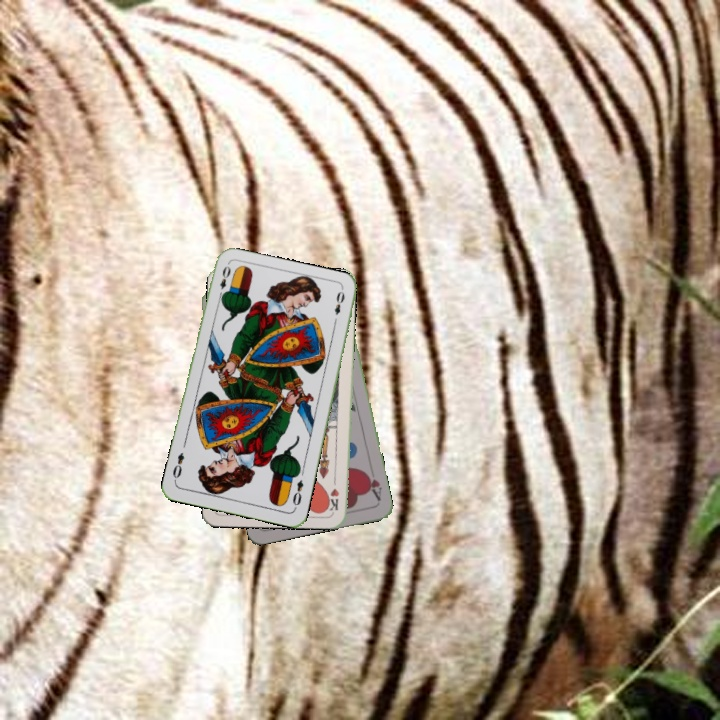EO: (215, 262, 233, 301), (288, 476, 306, 512)
HA: (361, 468, 384, 503)
HK: (326, 472, 342, 513)
